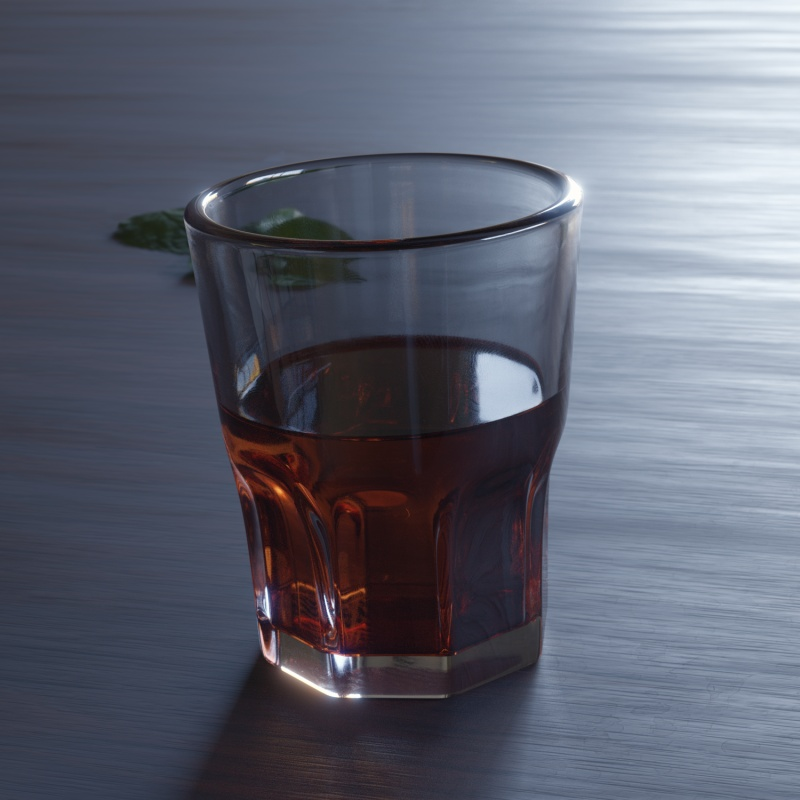whiskey: (202, 158, 581, 703)
